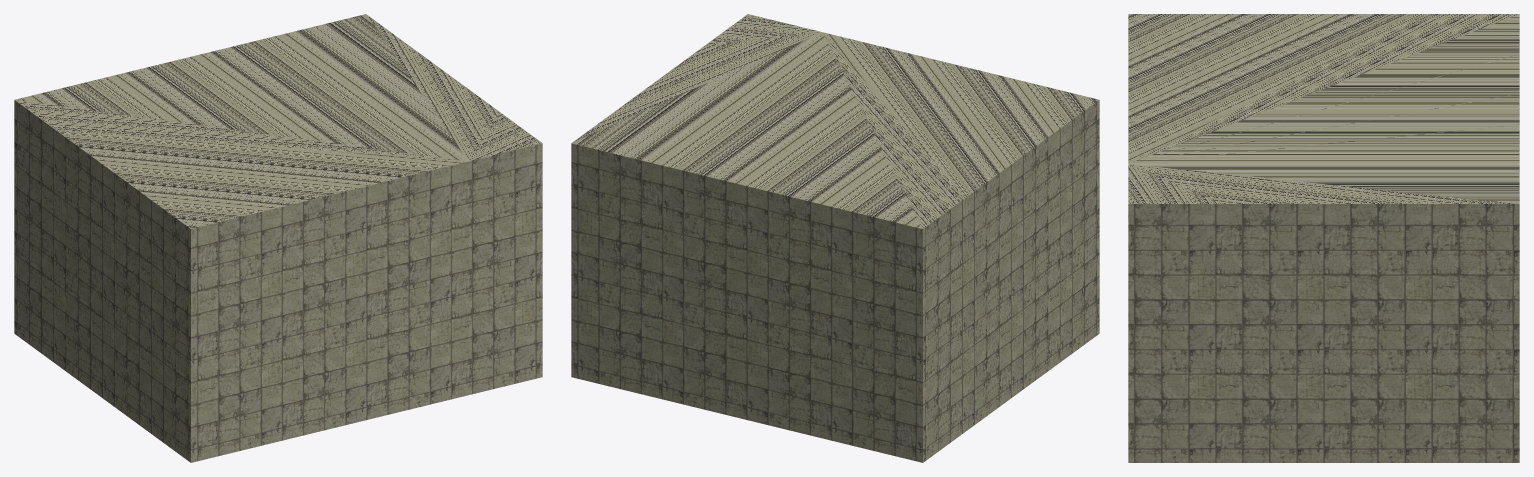
The model's file is SM_NeoLD_05_Block_00.fbx.
The picture shows the model from 3 angles, left to right: view 1: azimuth 30°, elevation 25°; view 2: azimuth 150°, elevation 25°; view 3: azimuth 270°, elevation 25°; orthographic projection. The views are drawn at different scales.
Visible parts, largest first — view 1: SM_NeoLD_05_Block_00; view 2: SM_NeoLD_05_Block_00; view 3: SM_NeoLD_05_Block_00.
Boxes of the visible parts, x1,y1,x2,y2 form: SM_NeoLD_05_Block_00: [14, 14, 542, 462]; SM_NeoLD_05_Block_00: [571, 14, 1099, 462]; SM_NeoLD_05_Block_00: [1128, 14, 1519, 462].
Bounding box in the file's own units: 2656 × 1687 × 2311.
